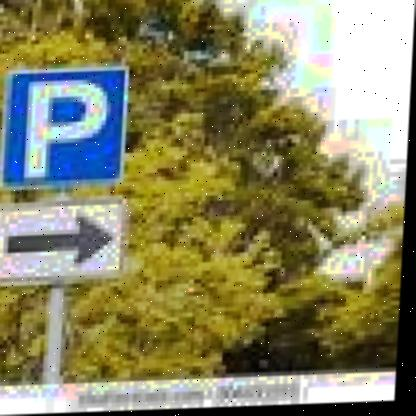Parking: (2, 69, 128, 191)
